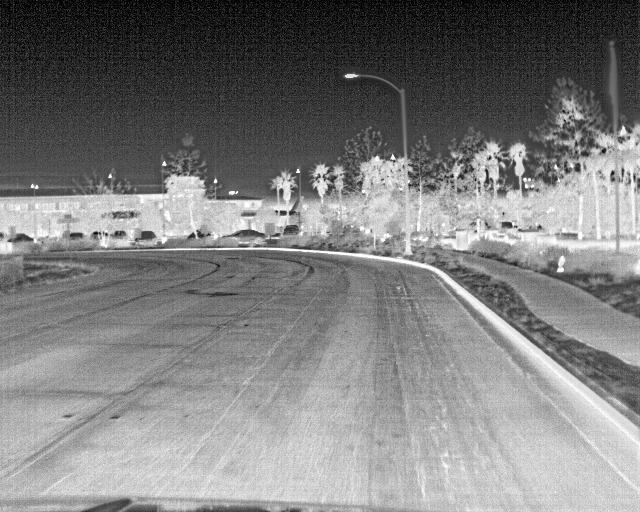car: (225, 229, 265, 247), (134, 229, 156, 245), (283, 224, 301, 238), (111, 229, 129, 243), (68, 232, 87, 244)
